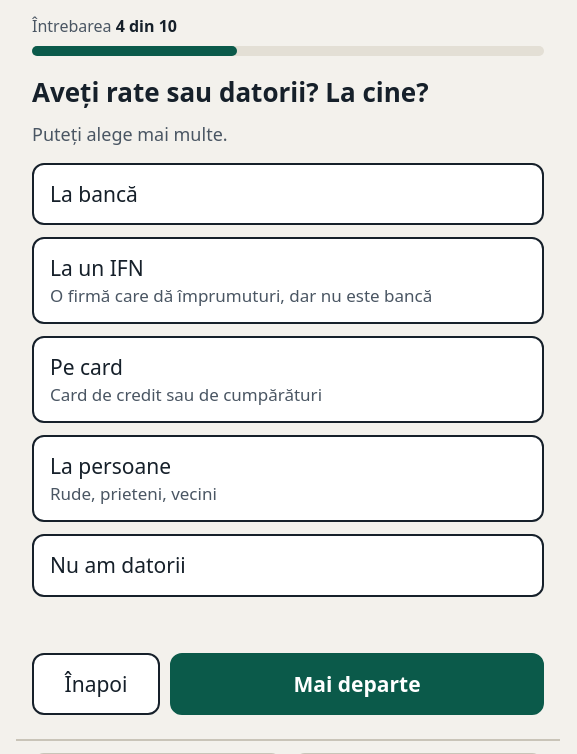
Test: datoriile › fara nicio alegere, intrebarea este fara raspuns, nu Nu
What coordinates should you click on to do the following:
click the button "Pe card Card de credit sau de cumpărături"
I would click on:
 (288, 380)
Its box is [32,336,544,423].
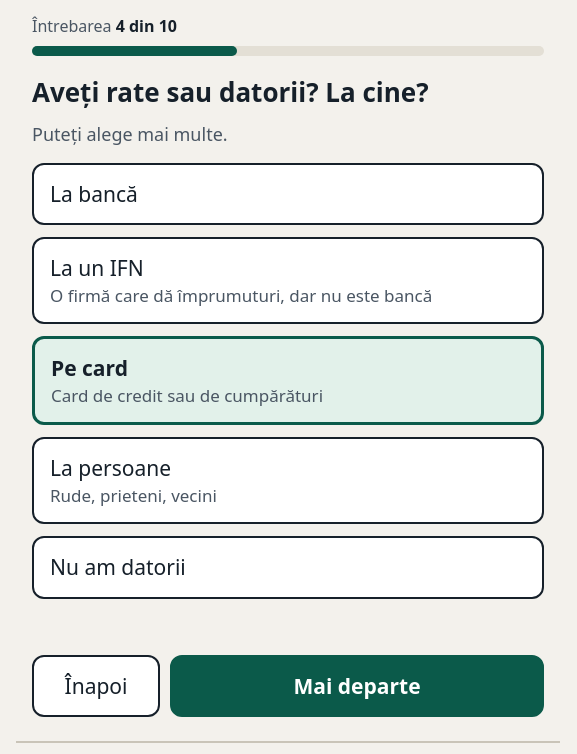
What coordinates should you click on to do the following:
click the button "Pe card Card de credit sau de cumpărături"
I would click on:
 (288, 381)
Its box is [32,336,544,425].
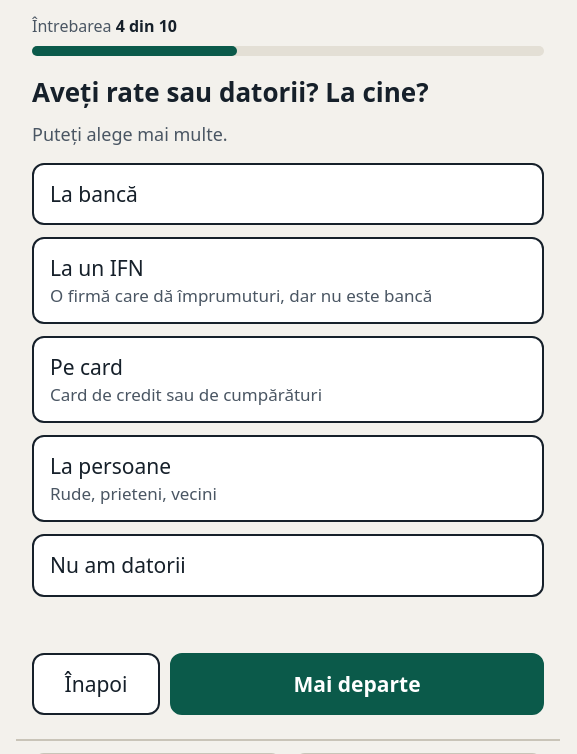
What coordinates should you click on to do the following:
click the button "Mai departe"
I would click on:
 (357, 684)
Its box is [170,653,544,715].
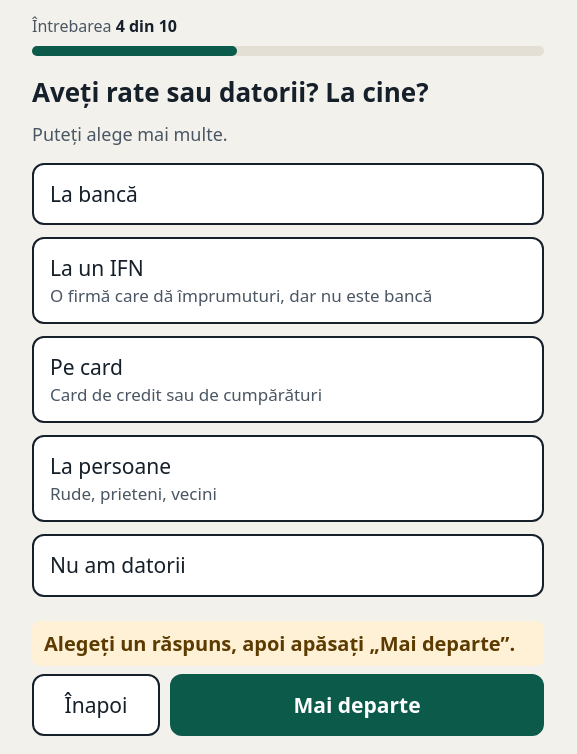
Expected: the message shows "Alegeți un răspuns", [44,630,515,657]
